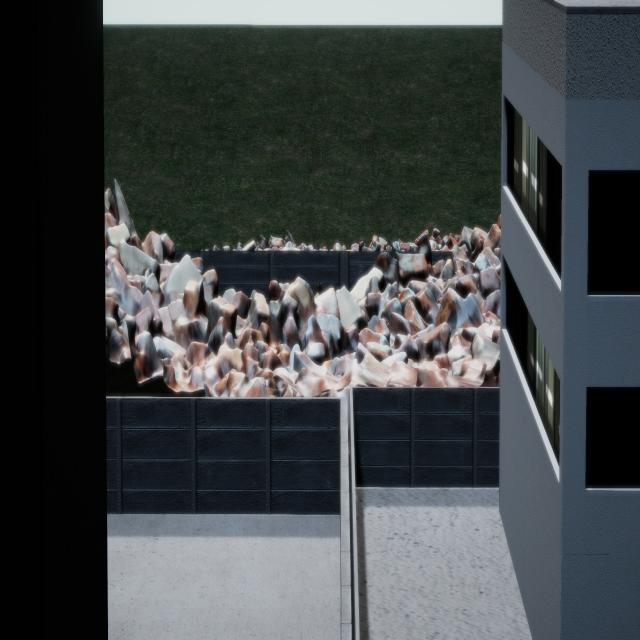Human: (312, 281, 326, 308)
